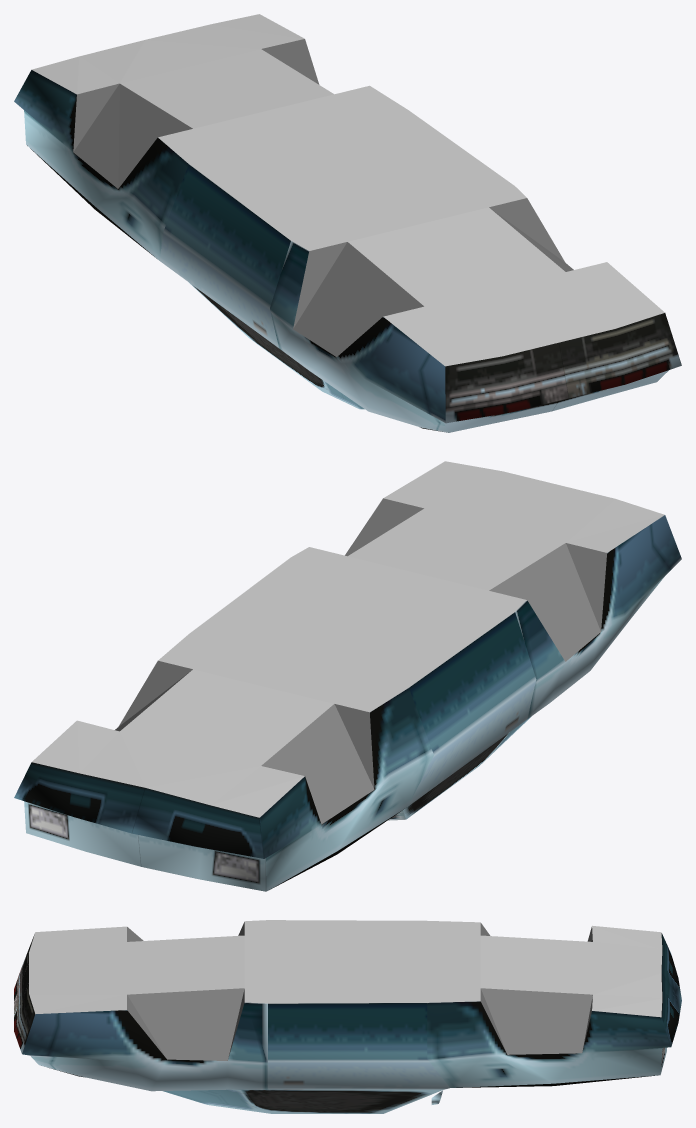
Rendered from CHICAGO_model1_clean.obj.
The picture shows the model from 3 angles, top to bottom: view 1: azimuth 30°, elevation 25°; view 2: azimuth 150°, elevation 25°; view 3: azimuth 270°, elevation 25°; orthographic projection. The views are drawn at different scales.
Visible parts, largest first — view 1: CHICAGO_model1_clean; view 2: CHICAGO_model1_clean; view 3: CHICAGO_model1_clean.
Boxes of the visible parts, x1,y1,x2,y2 form: CHICAGO_model1_clean: [14, 14, 681, 432]; CHICAGO_model1_clean: [14, 461, 681, 891]; CHICAGO_model1_clean: [14, 920, 681, 1113].
Size of the model in its own units: 270 by 160 by 750.
